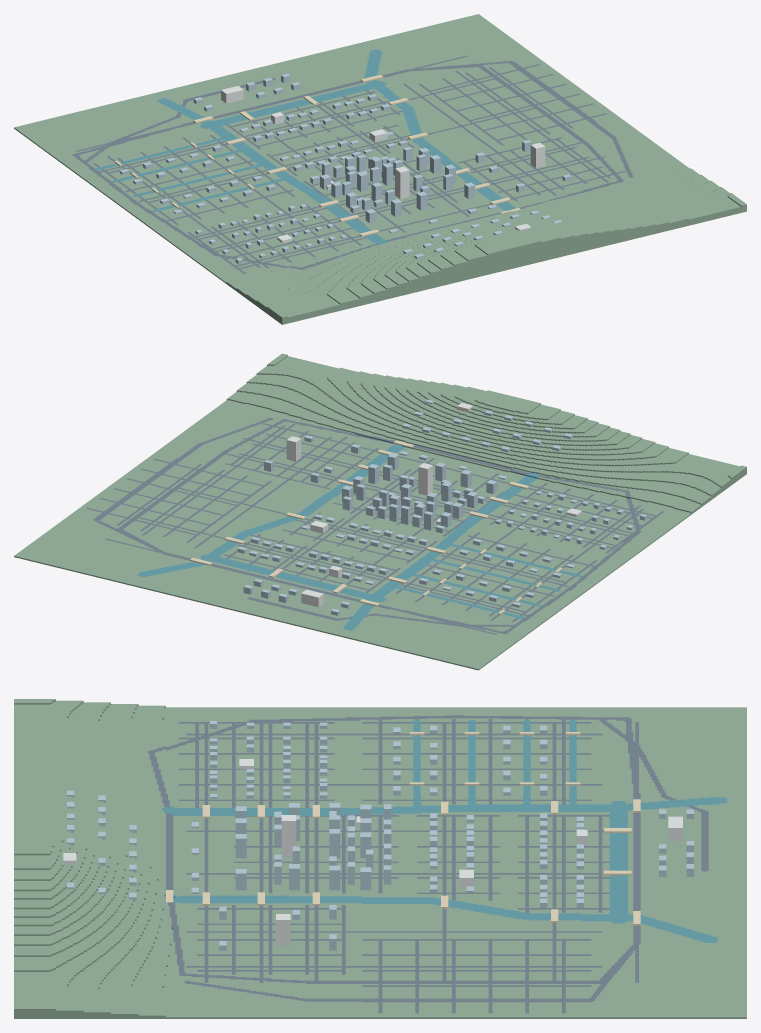
The model's file is mirage-city-voxcity.glb.
The picture shows the model from 3 angles, top to bottom: view 1: azimuth 30°, elevation 25°; view 2: azimuth 150°, elevation 25°; view 3: azimuth 270°, elevation 25°; orthographic projection. The views are drawn at different scales.
Parts seen in each view (by area): view 1: material_1, material_2, material_4, material_3, material_5, material_6; view 2: material_1, material_2, material_4, material_3, material_5, material_6; view 3: material_1, material_2, material_4, material_3, material_5, material_6.
Part boxes in pixels (bbox=[...]): material_1: bbox=[14, 14, 746, 324]; material_2: bbox=[72, 55, 633, 273]; material_4: bbox=[119, 73, 571, 264]; material_3: bbox=[96, 49, 515, 244]; material_5: bbox=[221, 86, 545, 243]; material_6: bbox=[114, 74, 520, 236]; material_1: bbox=[14, 353, 746, 670]; material_2: bbox=[86, 417, 663, 634]; material_4: bbox=[237, 399, 647, 615]; material_3: bbox=[137, 444, 580, 630]; material_5: bbox=[286, 403, 581, 607]; material_6: bbox=[190, 440, 562, 614]; material_1: bbox=[14, 699, 746, 1018]; material_2: bbox=[147, 715, 708, 1013]; material_4: bbox=[67, 721, 693, 950]; material_3: bbox=[162, 719, 726, 942]; material_5: bbox=[63, 759, 682, 946]; material_6: bbox=[166, 732, 640, 925].
Bounding box in the file's own units: 4000 × 230 × 4000.
